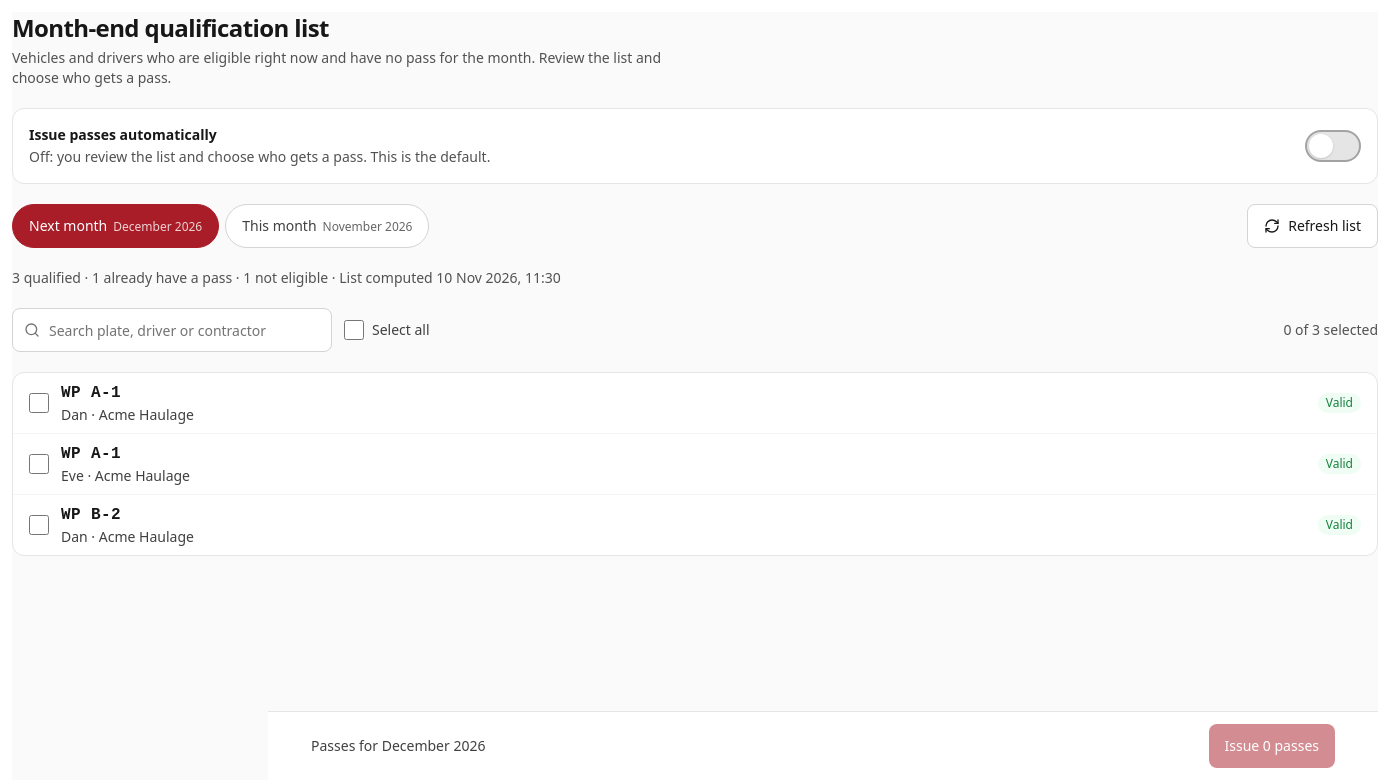
Test case: QualificationPage (month-end list) › reports the pairs the server refused, with the reason
Click the checkbox named "Select WP A-1 with Dan" at (39, 403), box [29,393,49,413]
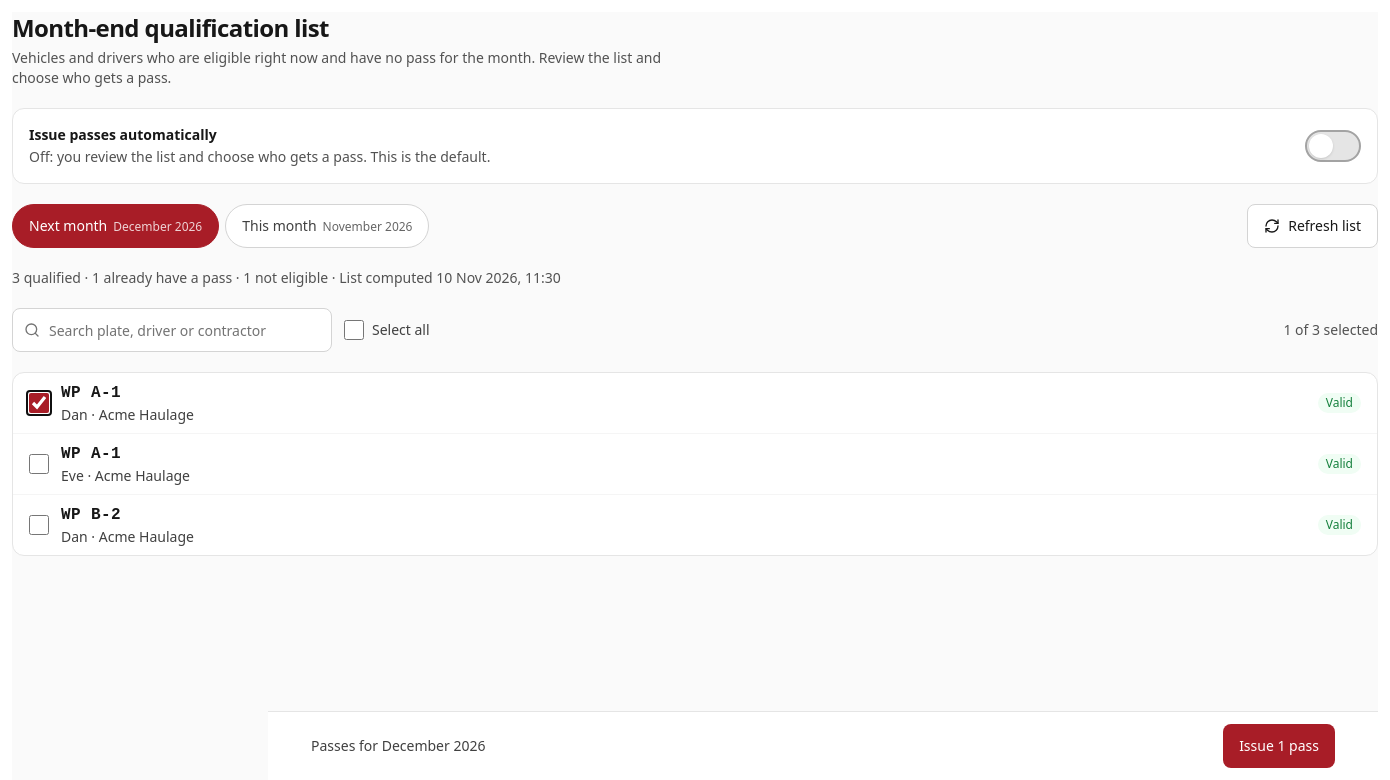
Click the button "Issue 1 pass" at (1279, 746), box [1223,724,1335,768]
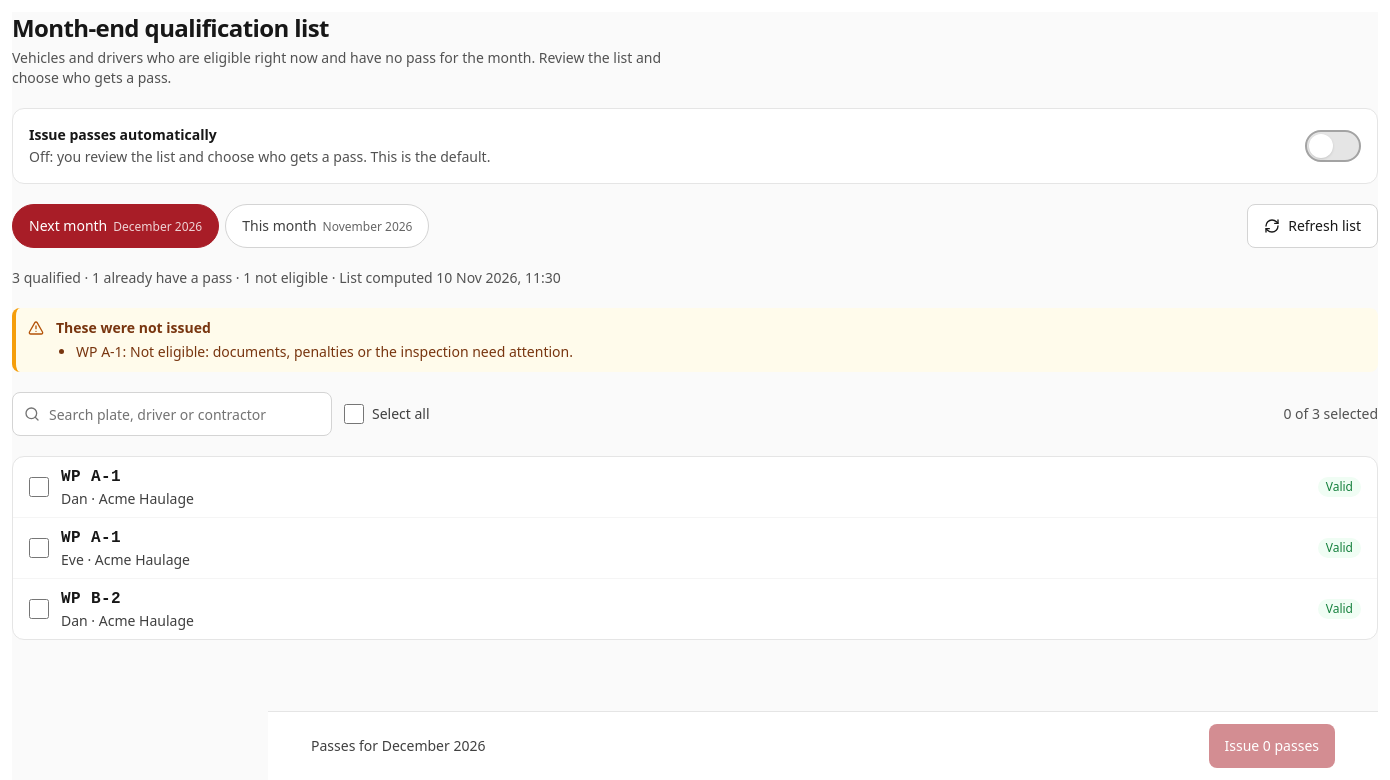
Now the text "These were not issued" is shown, box [56,318,211,337]
Now the list item "Not eligible: documents, penalties or the inspection need attention" is shown, box [130,342,573,361]
